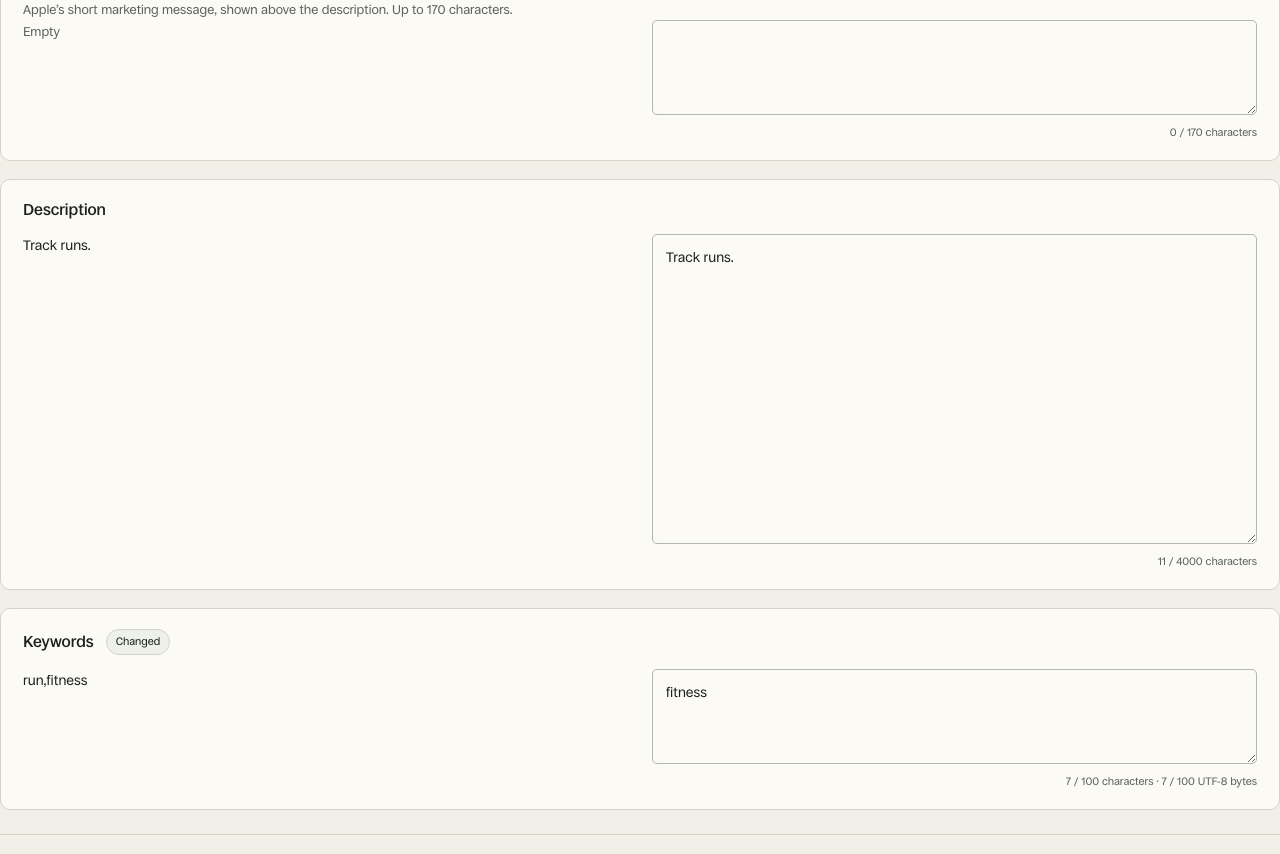
Test: keeps typing made during a save and serializes the next version
(page scrolled)
Replace the text in the text box named "Draft Keywords" with "first" at (954, 717), box [652,669,1257,764]
Wait 700 ms
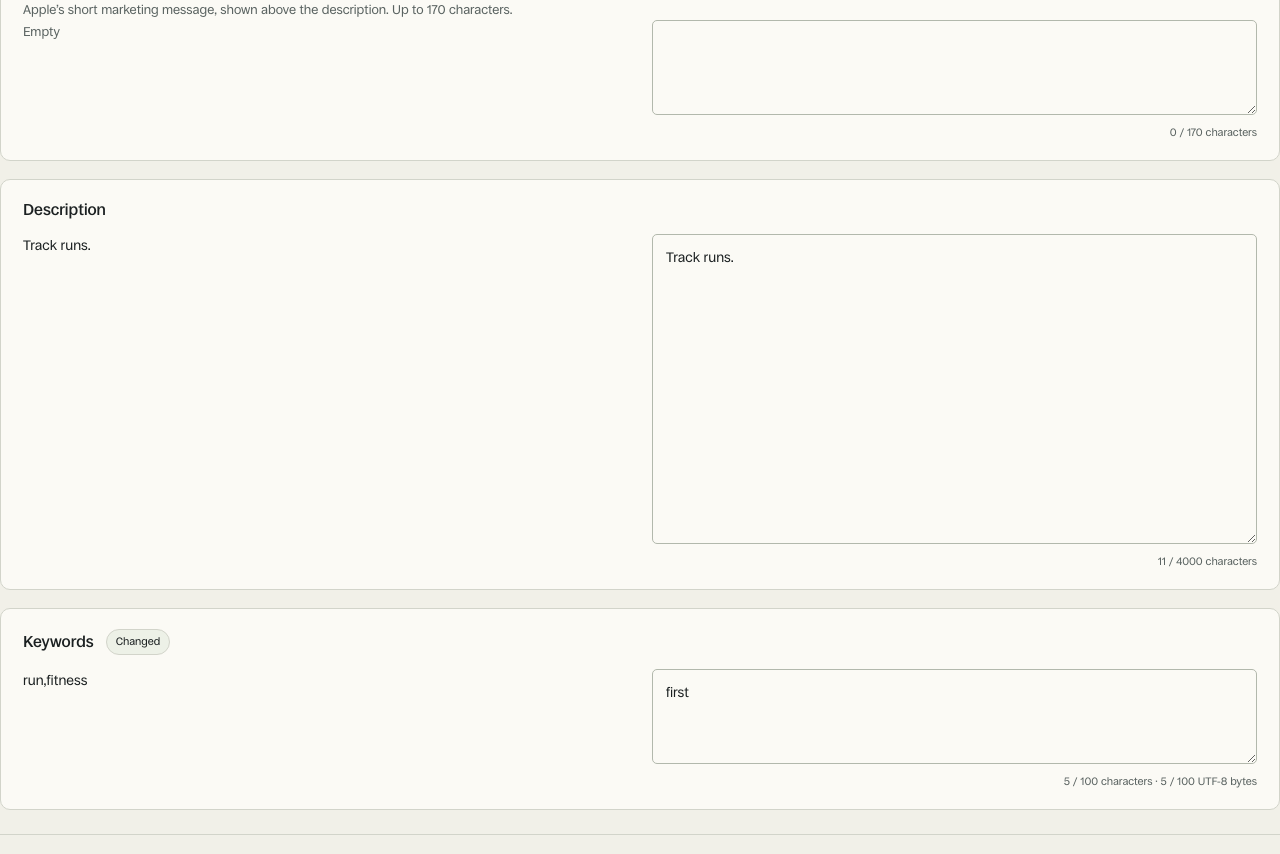
Replace the text in the text box named "Draft Keywords" with "latest" at (954, 717), box [652,669,1257,764]
(page scrolled)
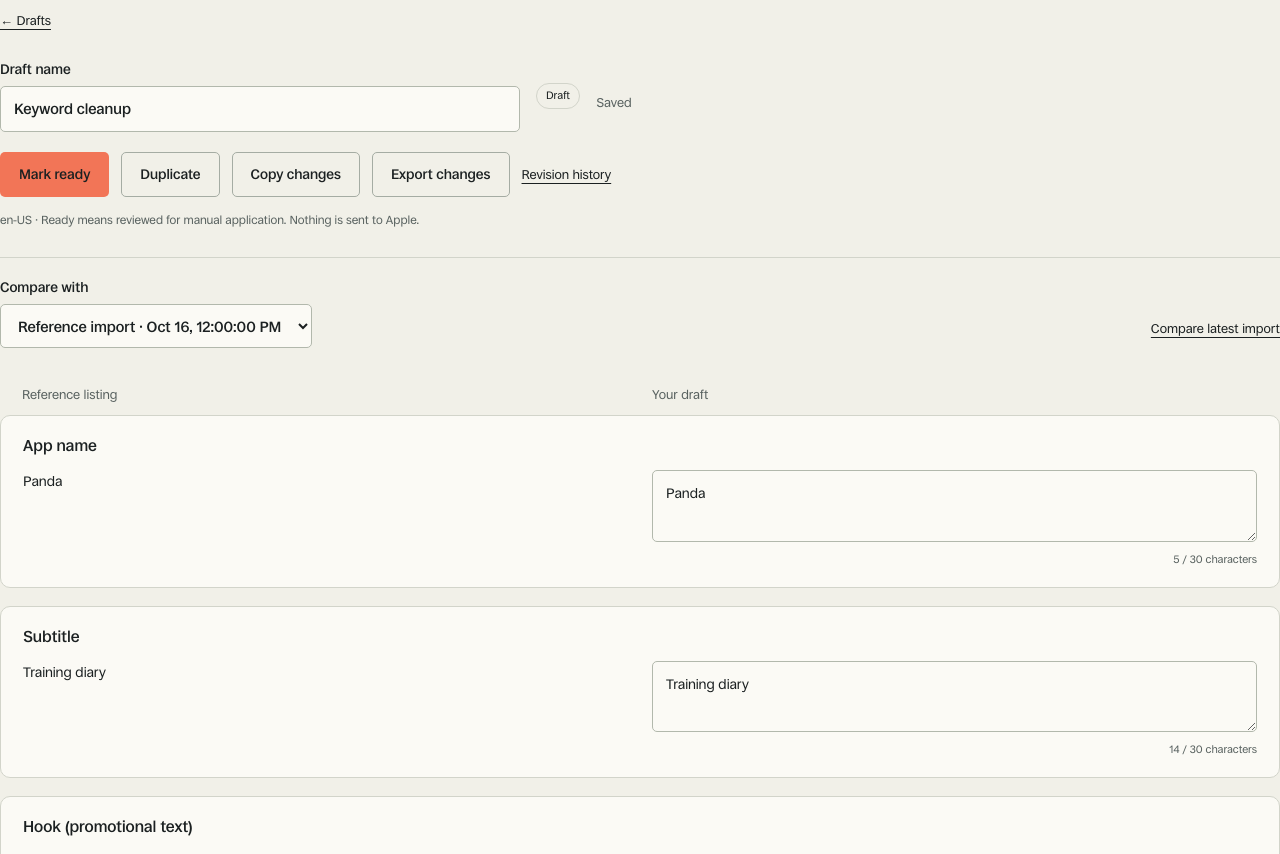
Check: the text "Saved" is shown, box [596,93,632,113]
